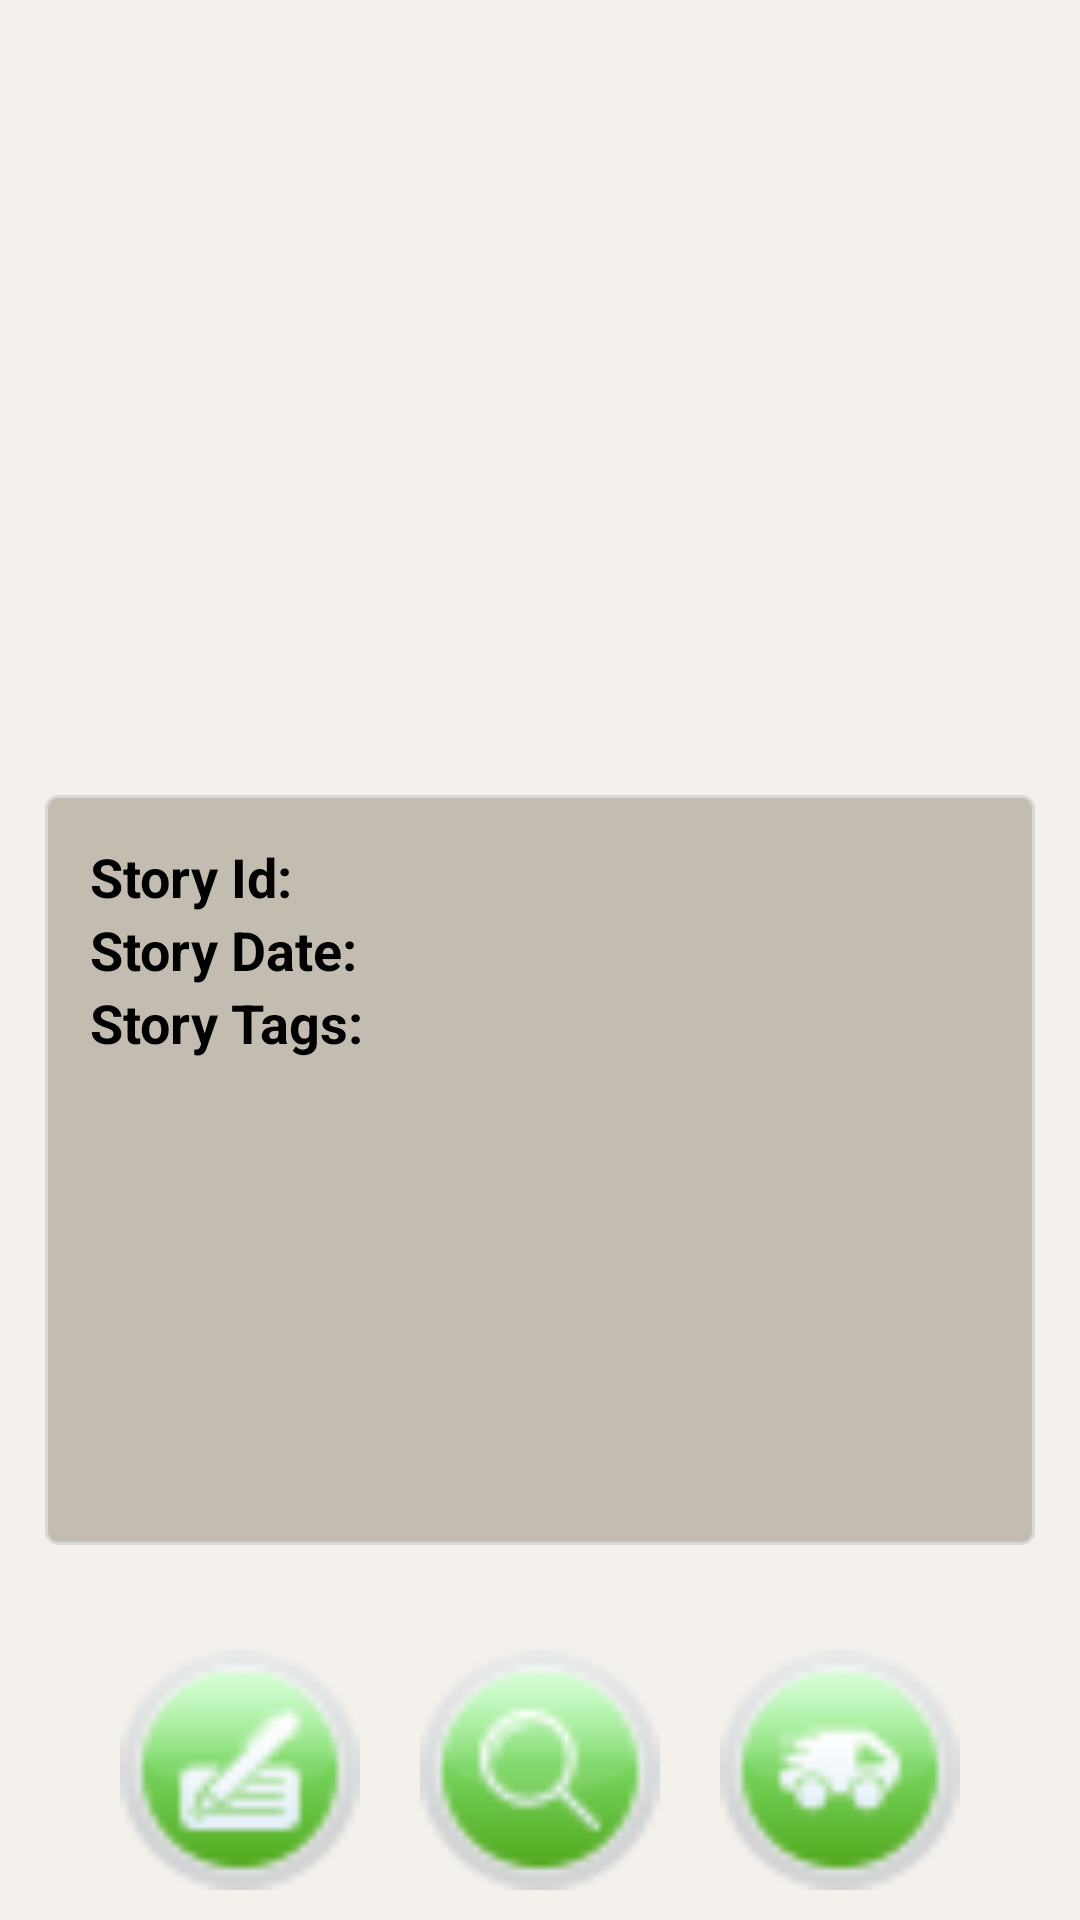

Screen size 1080w x 1920h. Icon name, then its center in pixels as [x,y]:
btngetthere: [840,1782]
btnnearby: [540,1782]
btnwritestory: [240,1782]
